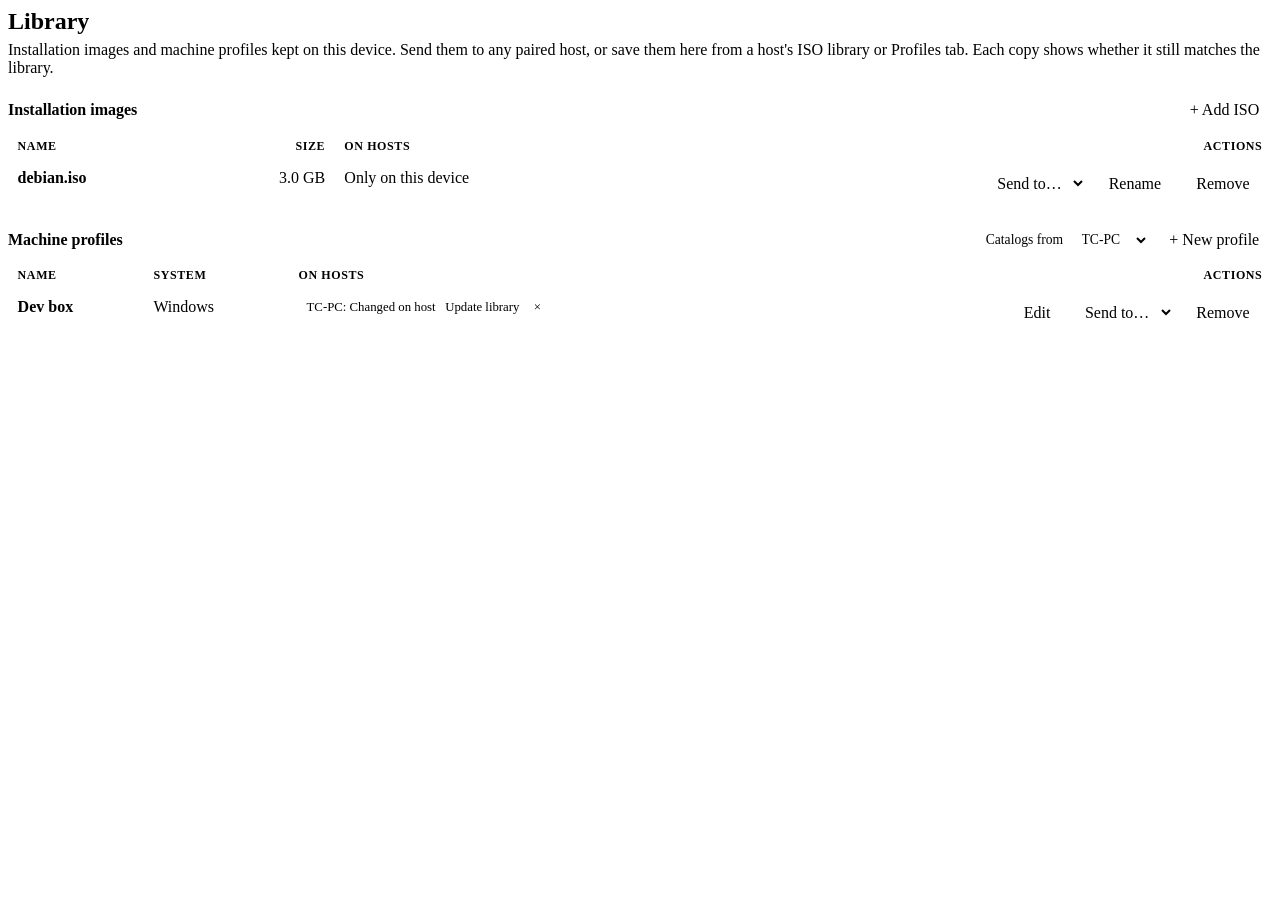
Library › opens a library profile in the editor
Click the button "Edit" at (1037, 313), box left=1011, top=299, right=1063, bottom=327
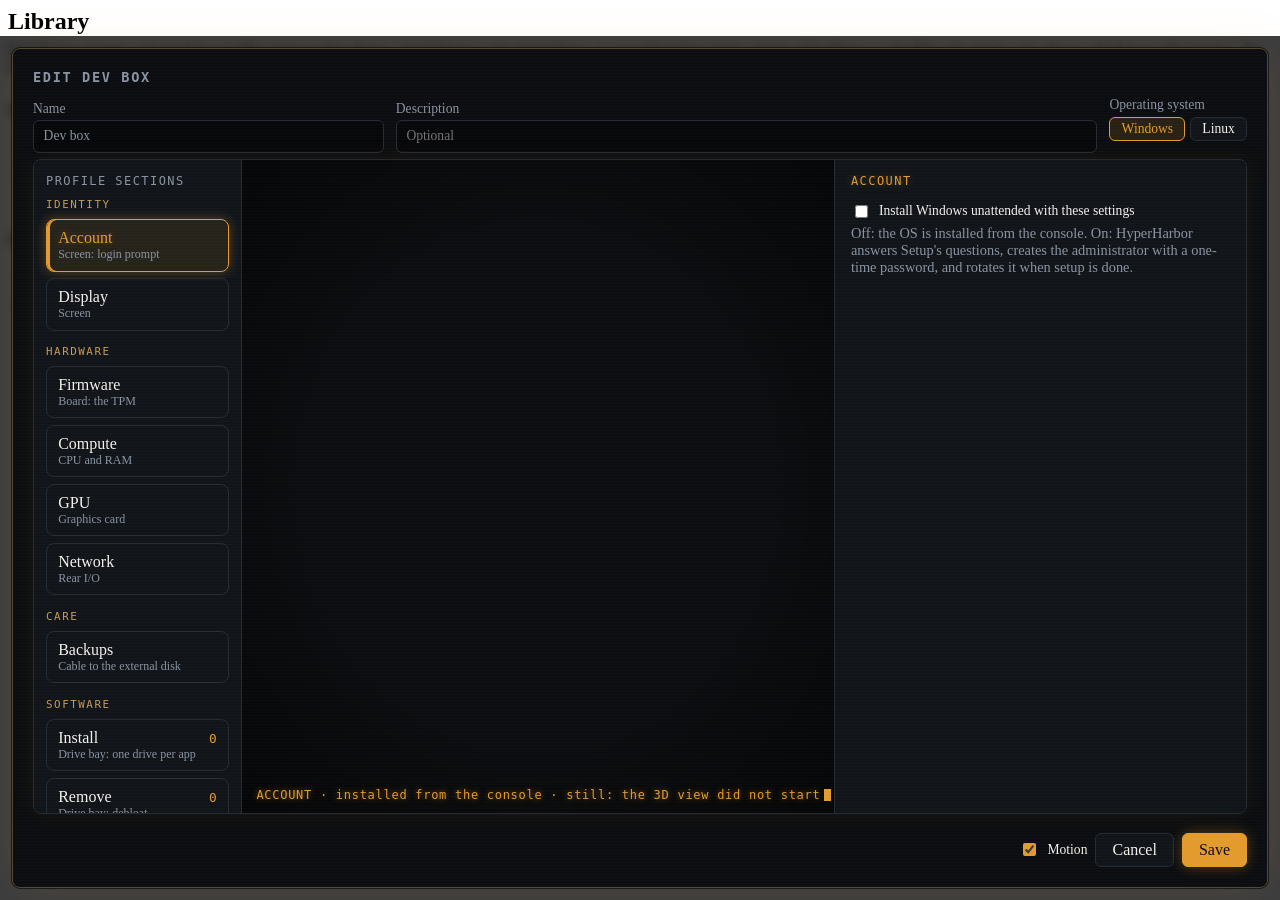
Expected: the heading "Edit Dev box" is shown, left=33, top=69, right=151, bottom=85
